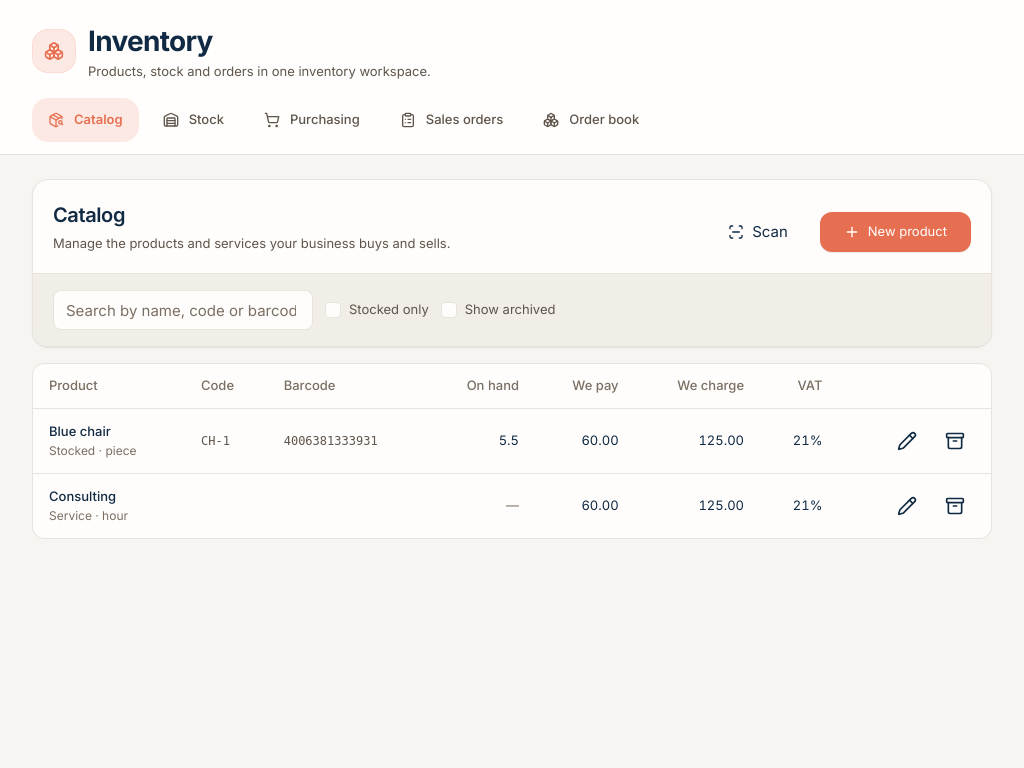
the catalog › a refused barcode is shown in the server's words, and the form stays
Click the button "Blue chair".
click(80, 432)  # box top-left (49, 422), bottom-right (111, 442)
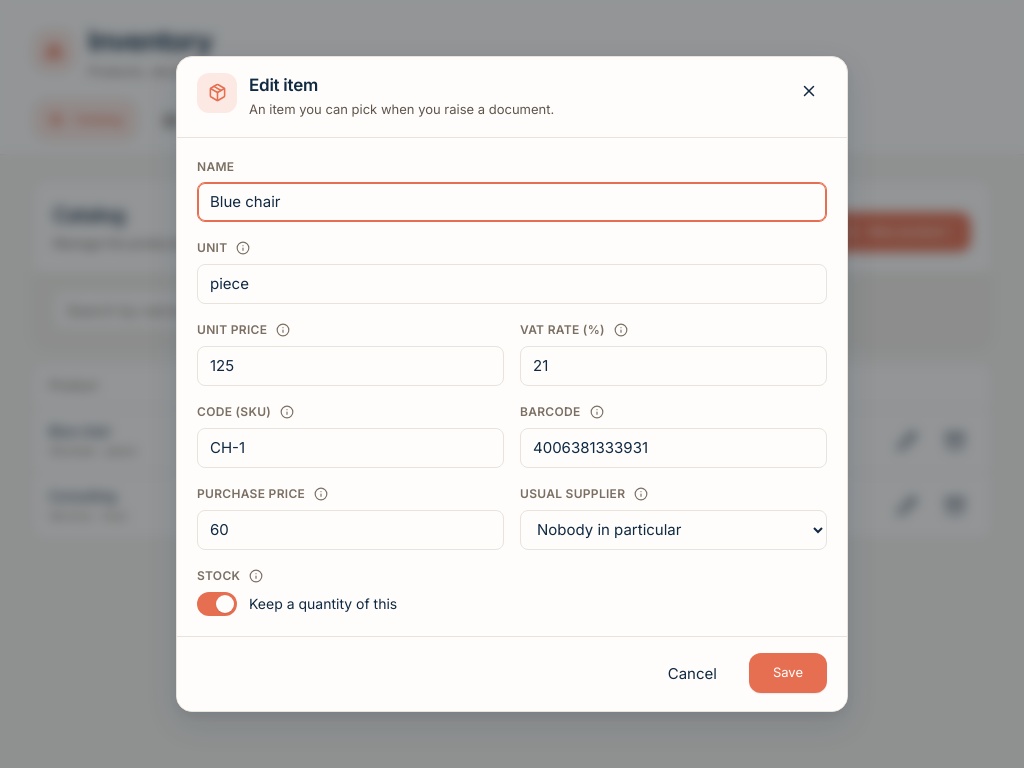
Replace the text in the field named "Barcode" with "4006381333930" at (674, 448), box top-left (520, 428), bottom-right (827, 468)
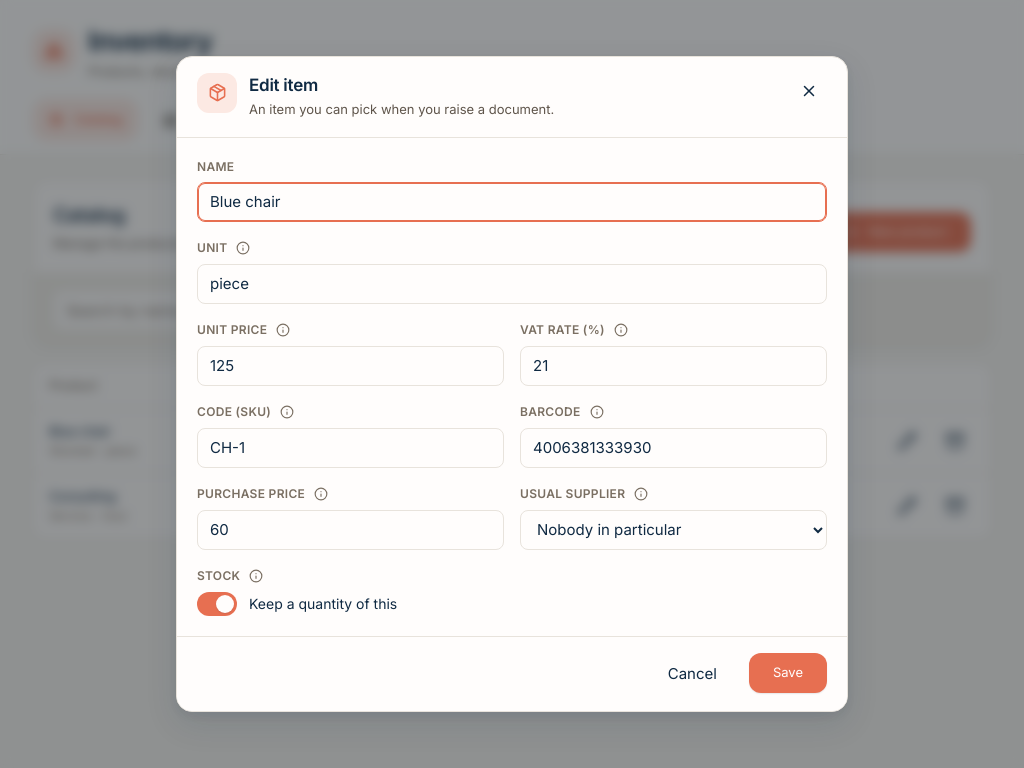
Click the button "Save".
click(788, 672)  # box top-left (749, 652), bottom-right (827, 692)
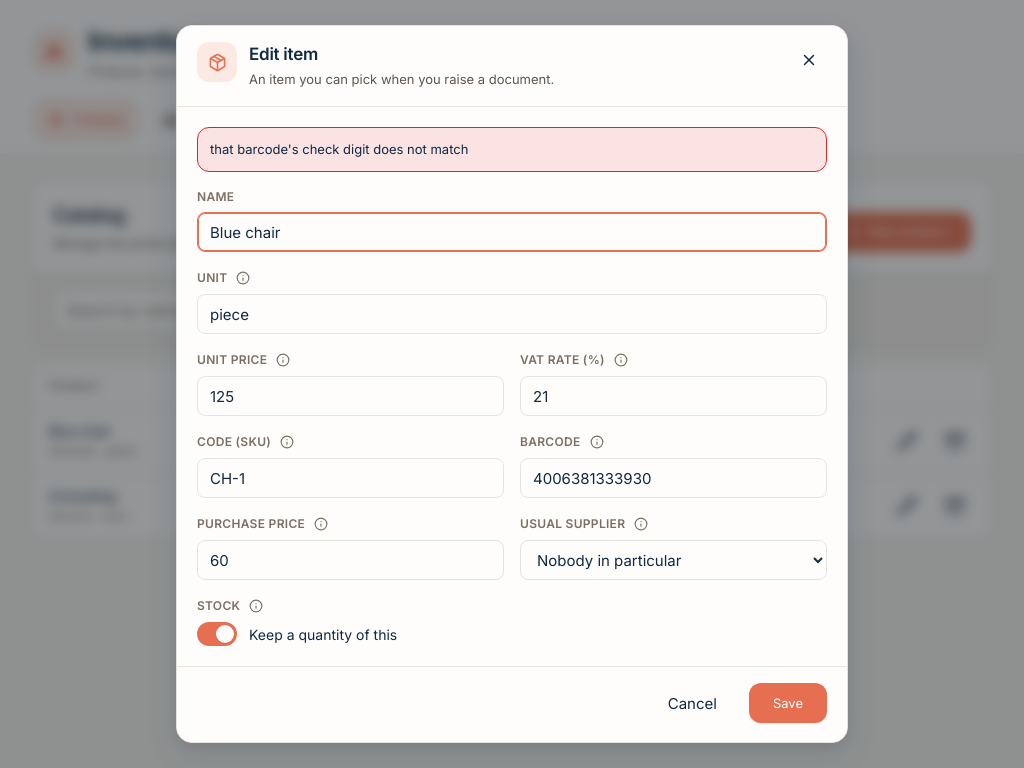
Check: the dialog is shown
Check: the text "that barcode's check digit does not match" is shown, box top-left (197, 127), bottom-right (827, 172)
